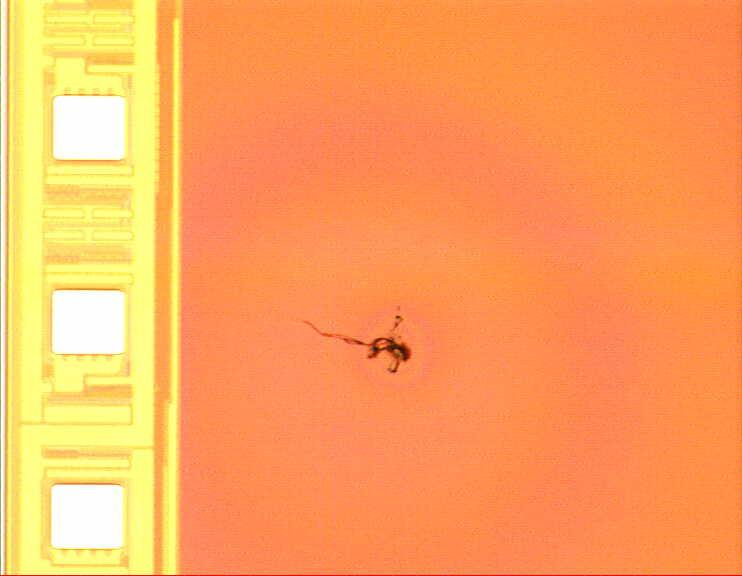PIQ PARTICLE: (294, 303, 416, 379)
